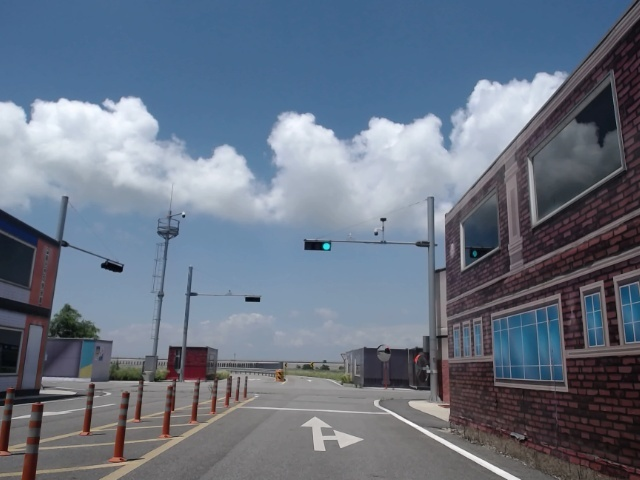green_3: (304, 241, 330, 250)
